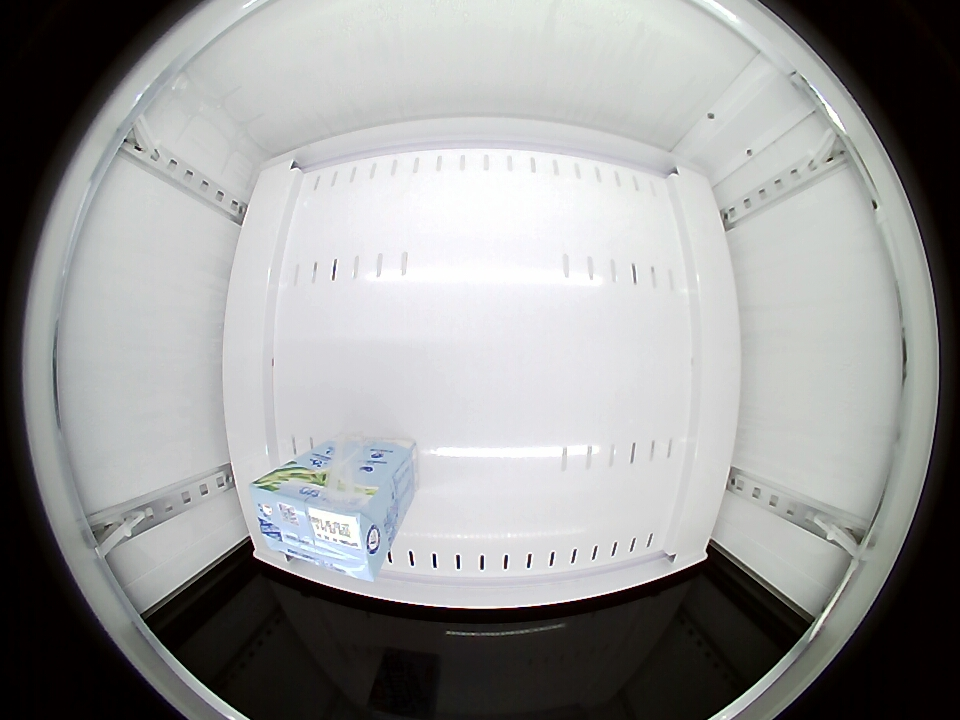weitanaiditang: (247, 471, 392, 581)
